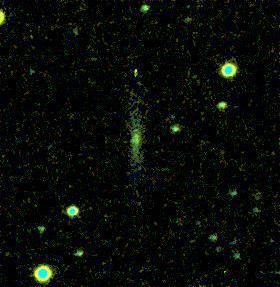star: (122, 55, 152, 85)
